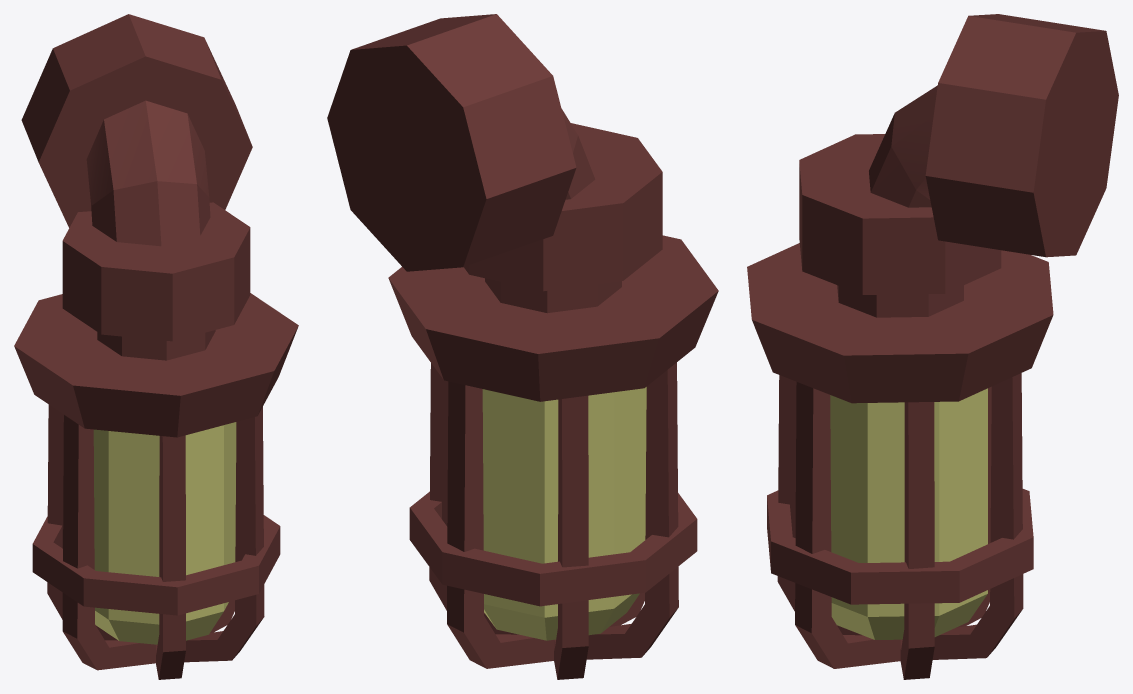
Rendered from RustedMetalDecorationSmallWallLight2.fbx.
3 views of the same model, side by side, from view 1: azimuth 30°, elevation 25°; view 2: azimuth 150°, elevation 25°; view 3: azimuth 270°, elevation 25° (orthographic). The views are drawn at different scales.
Visible parts, largest first — view 1: RustedMetalDecorationSmallWallLight2; view 2: RustedMetalDecorationSmallWallLight2; view 3: RustedMetalDecorationSmallWallLight2.
Boxes of the visible parts, box(x1,y1,x2,y2) form: RustedMetalDecorationSmallWallLight2: box(14, 14, 298, 679); RustedMetalDecorationSmallWallLight2: box(327, 14, 718, 679); RustedMetalDecorationSmallWallLight2: box(747, 14, 1118, 679).
Size of the model in its own units: 99.63 by 216 by 111.
